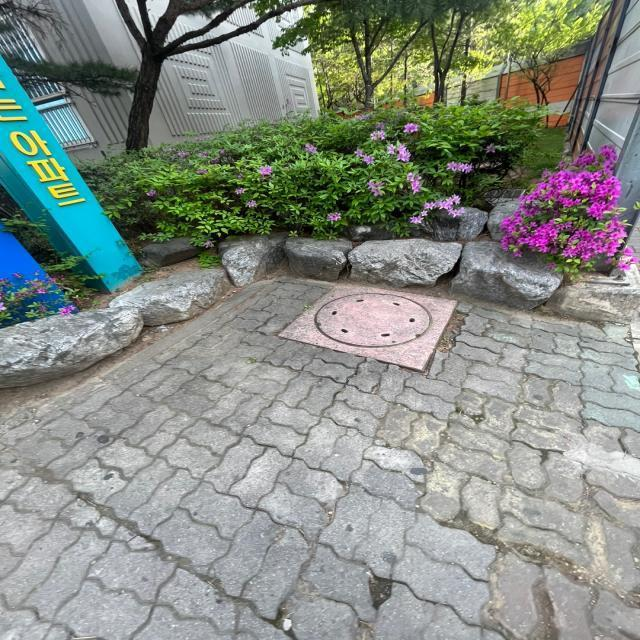manhole: (280, 286, 454, 371)
